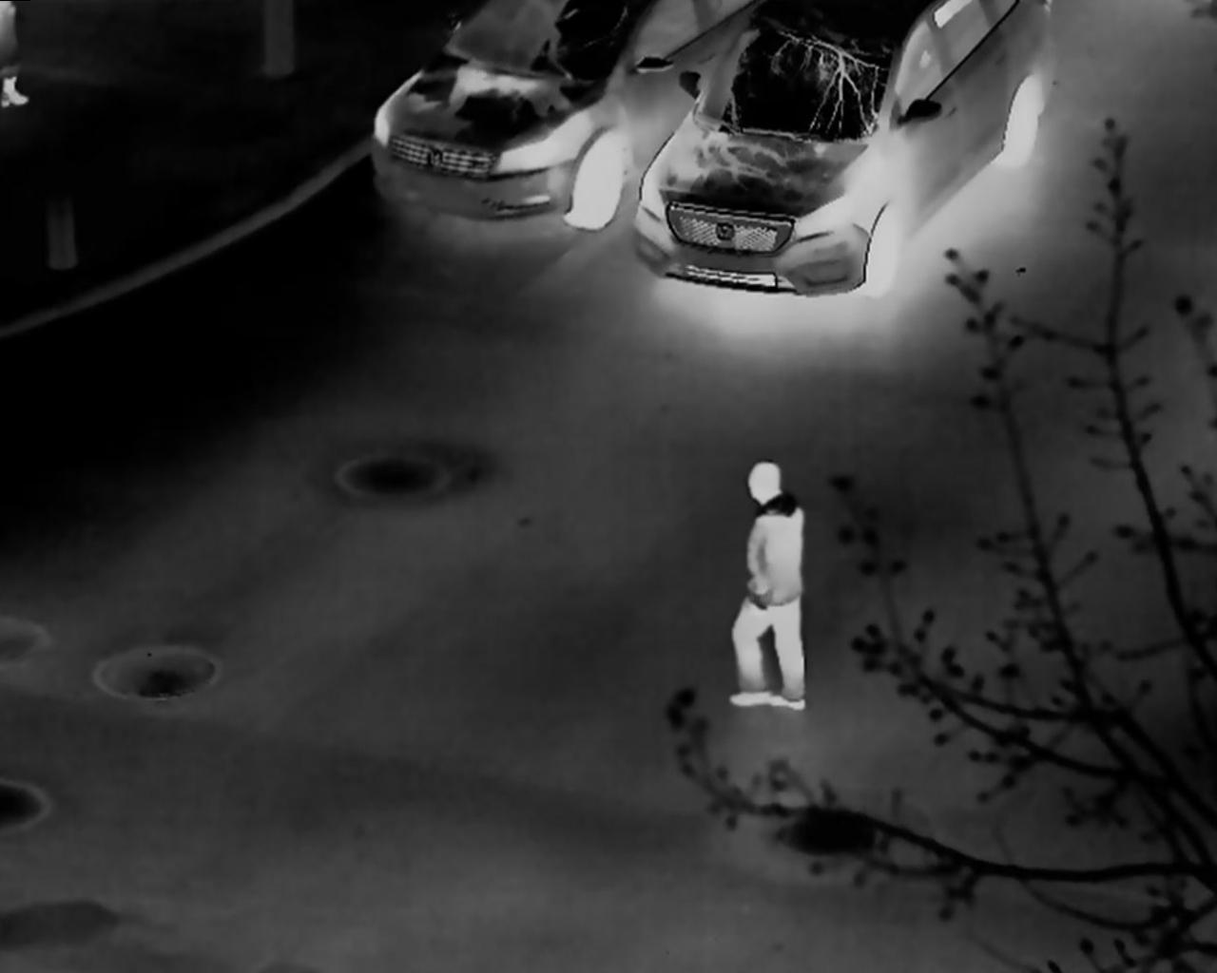person: (729, 461, 808, 713)
